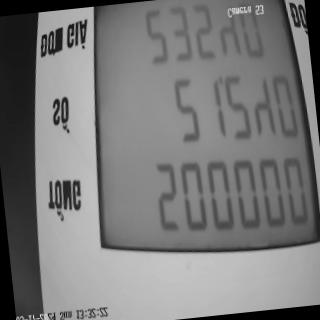screen: (72, 0, 320, 279)
